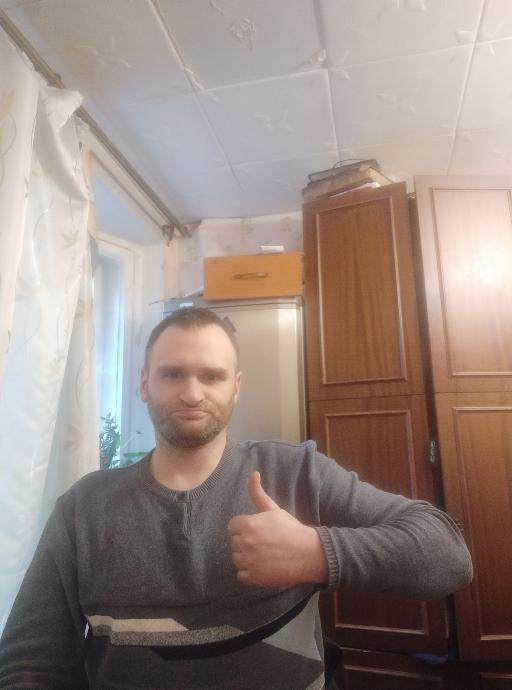like: (225, 469, 311, 590)
